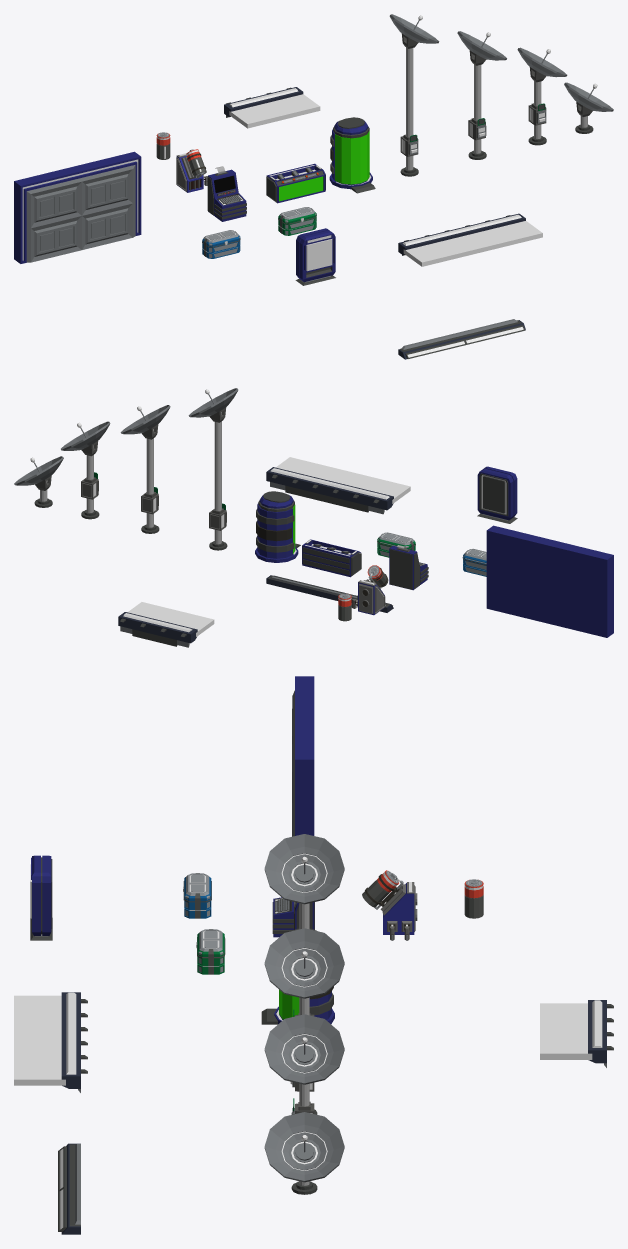
File: interactables.fbx
3 renders of one model, top to bottom at view 1: azimuth 30°, elevation 25°; view 2: azimuth 150°, elevation 25°; view 3: azimuth 270°, elevation 25°, orthographic. The views are drawn at different scales.
Visible parts, largest first — view 1: player door, bridge.003, item shop, light bridge 1.002, weapon shop, satellite tall, bridge.002, save door, character upgrade, satellite mid 2, light bridge norm, satellite mid 1 (+6 smaller); view 2: player door, light bridge norm, save spot.001, item shop, bridge.003, satellite tall, light bridge small, weapon shop, satellite mid 2, character upgrade, satellite mid 1, bridge.002 (+5 smaller); view 3: satellite small, satellite tall, satellite mid 1, satellite mid 2, bridge.003, player door, bridge.002, light bridge norm, light bridge 1.002, item shop, battery case, light bridge small (+5 smaller).
Boxes of the visible parts, x1=… form: player door: x1=14, y1=151, x2=141, y2=263; bridge.003: x1=403, y1=221, x2=542, y2=266; item shop: x1=295, y1=228, x2=335, y2=285; light bridge 1.002: x1=398, y1=319, x2=525, y2=359; weapon shop: x1=266, y1=163, x2=325, y2=203; satellite tall: x1=389, y1=14, x2=439, y2=176; bridge.002: x1=229, y1=94, x2=320, y2=128; save door: x1=335, y1=131, x2=369, y2=184; character upgrade: x1=207, y1=169, x2=246, y2=221; satellite mid 2: x1=457, y1=31, x2=506, y2=159; light bridge norm: x1=398, y1=213, x2=525, y2=255; satellite mid 1: x1=517, y1=47, x2=567, y2=145; player door: x1=486, y1=525, x2=613, y2=637; light bridge norm: x1=266, y1=467, x2=393, y2=514; save spot.001: x1=255, y1=491, x2=300, y2=562; item shop: x1=477, y1=466, x2=517, y2=523; bridge.003: x1=276, y1=457, x2=410, y2=503; satellite tall: x1=188, y1=388, x2=238, y2=550; light bridge small: x1=118, y1=612, x2=197, y2=647; weapon shop: x1=302, y1=539, x2=361, y2=577; satellite mid 2: x1=120, y1=405, x2=170, y2=533; character upgrade: x1=389, y1=545, x2=428, y2=590; satellite mid 1: x1=61, y1=421, x2=110, y2=519; bridge.002: x1=128, y1=602, x2=214, y2=636; satellite small: x1=264, y1=1112, x2=344, y2=1194; satellite tall: x1=264, y1=834, x2=344, y2=929; satellite mid 1: x1=264, y1=1014, x2=344, y2=1106; satellite mid 2: x1=264, y1=928, x2=344, y2=1114; bridge.003: x1=14, y1=995, x2=65, y2=1085; player door: x1=292, y1=676, x2=314, y2=836; bridge.002: x1=540, y1=1003, x2=592, y2=1059; light bridge norm: x1=61, y1=992, x2=87, y2=1092; light bridge 1.002: x1=58, y1=1143, x2=80, y2=1234; item shop: x1=30, y1=855, x2=52, y2=940; battery case: x1=380, y1=882, x2=417, y2=940; light bridge small: x1=588, y1=1000, x2=613, y2=1067.
Bounding box in the file's own units: 10130 × 6263 × 4254.
